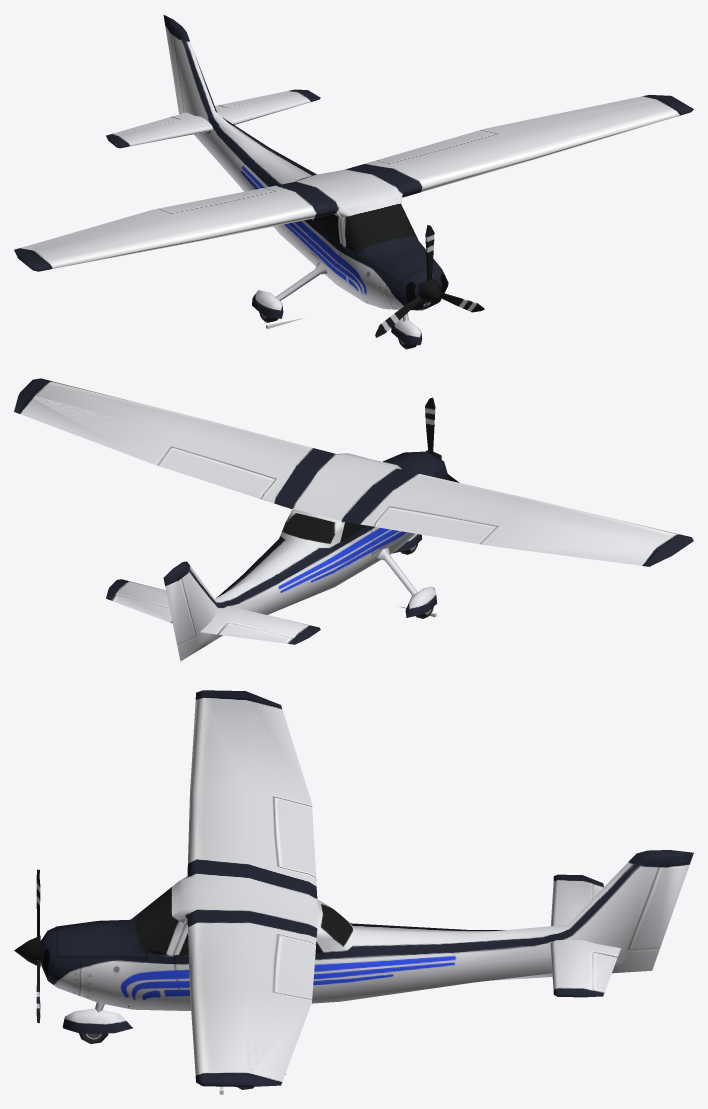
The model's file is BlueJay.FBX.
3 renders of one model, top to bottom at view 1: azimuth 30°, elevation 25°; view 2: azimuth 150°, elevation 25°; view 3: azimuth 270°, elevation 25°, orthographic. The views are drawn at different scales.
Parts seen in each view (by area): view 1: BlueJay2BodyWindowed, BlueJay3BodyDoorCut, BlueJay1BodyLores, Prop; view 2: BlueJay2BodyWindowed, BlueJay3BodyDoorCut, WindowB, Prop, BlueJay1BodyLores; view 3: BlueJay2BodyWindowed, BlueJay3BodyDoorCut, BlueJay1BodyLores, Prop, WindowB.
Part boxes in pixels (bbox=[...]): BlueJay2BodyWindowed: bbox=[14, 15, 693, 345]; BlueJay3BodyDoorCut: bbox=[23, 97, 689, 284]; BlueJay1BodyLores: bbox=[309, 196, 417, 284]; Prop: bbox=[375, 225, 484, 337]; BlueJay2BodyWindowed: bbox=[14, 378, 693, 661]; BlueJay3BodyDoorCut: bbox=[24, 378, 684, 586]; WindowB: bbox=[282, 513, 334, 544]; Prop: bbox=[425, 397, 459, 482]; BlueJay1BodyLores: bbox=[279, 514, 402, 560]; BlueJay2BodyWindowed: bbox=[40, 690, 693, 1086]; BlueJay3BodyDoorCut: bbox=[173, 691, 350, 1081]; BlueJay1BodyLores: bbox=[59, 830, 356, 1032]; Prop: bbox=[14, 869, 40, 1022]; WindowB: bbox=[321, 904, 353, 946].
Size of what is drawn, in the model's own units: 1187 by 272 by 861.
